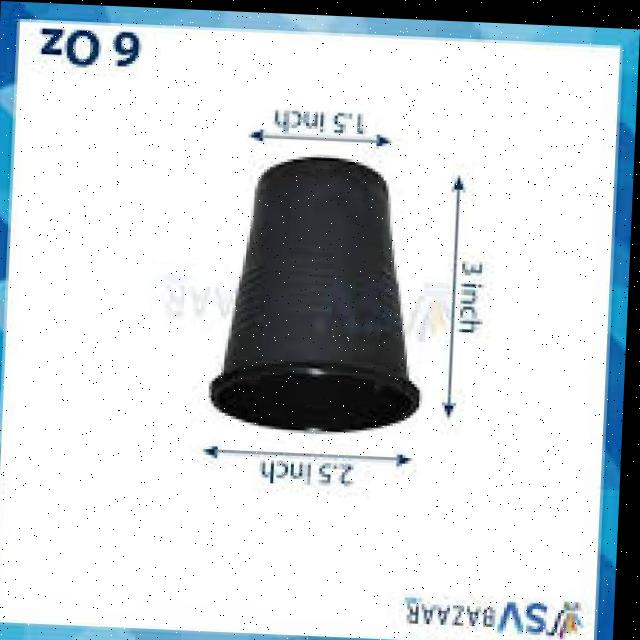cup: (202, 101, 456, 460)
